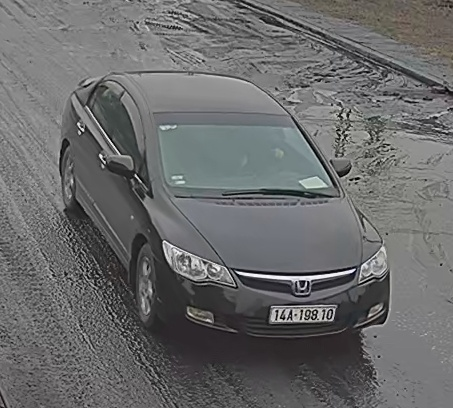vehicle plate: (264, 301, 339, 324)
